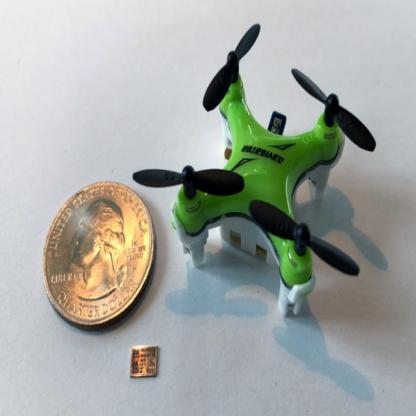drone: (142, 25, 376, 316)
